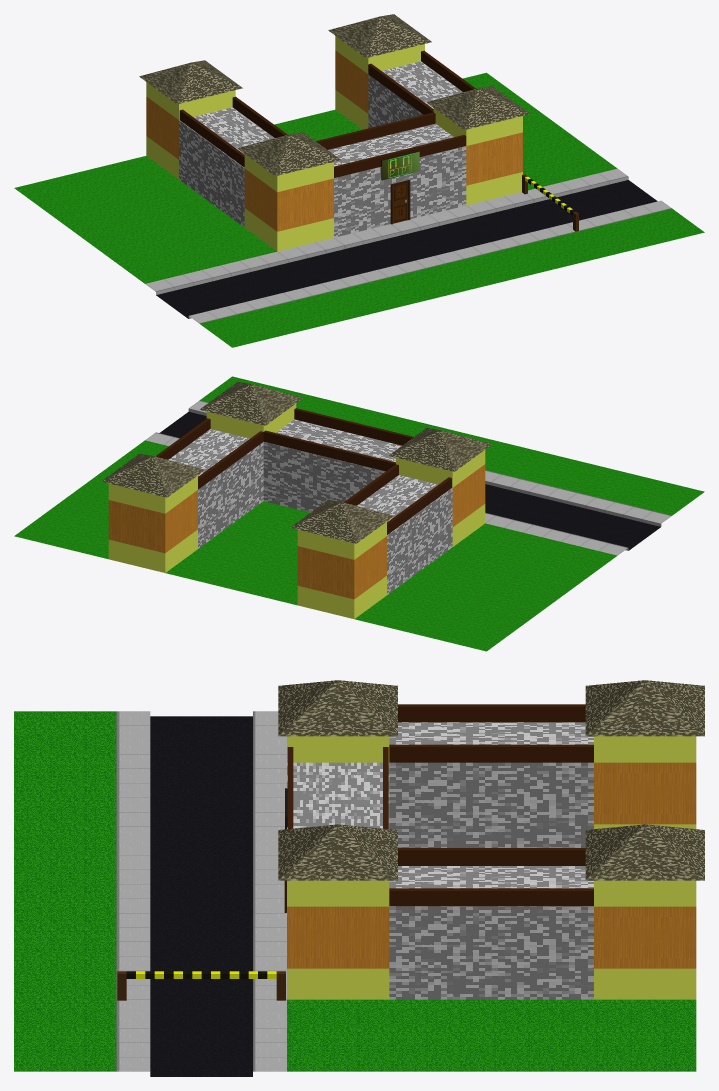
File: PiPiOutside.fbx
The picture shows the model from 3 angles, top to bottom: view 1: azimuth 30°, elevation 25°; view 2: azimuth 150°, elevation 25°; view 3: azimuth 270°, elevation 25°; orthographic projection. The views are drawn at different scales.
Parts seen in each view (by area): view 1: Floor, Cube_2_4, Cube_2_3, Cube_3_2, Cube_1_3, Cube_8_2, Cube_7_2, Cube_4_2, Cube_1, Cube_2, Cube_3, Cube (+9 smaller); view 2: Floor, Cube_2_4, Cube_7_2, Cube_8_2, Cube_3_2, Cube_4_2, Cube_2_3, Cube_1, Cube_2, Cube_3, Cube, Cube_5 (+6 smaller); view 3: Floor, Cube_4_2, Cube_3_2, Cube_8_2, Cube_1_3, Cube_7_2, Cube, Cube_3, Cube_2, Cube_1, Cube_2_4, Cube_8 (+5 smaller).
Boxes of the visible parts, left/top/right/bottom form: Floor: left=14, top=72, right=704, bottom=347; Cube_2_4: left=328, top=123, right=466, bottom=237; Cube_2_3: left=244, top=154, right=333, bottom=251; Cube_3_2: left=179, top=107, right=274, bottom=227; Cube_1_3: left=433, top=108, right=522, bottom=205; Cube_8_2: left=335, top=36, right=424, bottom=129; Cube_7_2: left=146, top=82, right=235, bottom=179; Cube_4_2: left=368, top=61, right=462, bottom=128; Cube_1: left=426, top=86, right=529, bottom=129; Cube_2: left=328, top=14, right=431, bottom=58; Cube_3: left=139, top=60, right=242, bottom=104; Cube: left=237, top=132, right=340, bottom=176; Floor: left=14, top=376, right=704, bottom=651; Cube_2_4: left=263, top=419, right=401, bottom=512; Cube_7_2: left=297, top=522, right=386, bottom=618; Cube_8_2: left=108, top=475, right=197, bottom=572; Cube_3_2: left=357, top=475, right=452, bottom=594; Cube_4_2: left=168, top=429, right=263, bottom=548; Cube_2_3: left=396, top=450, right=485, bottom=546; Cube_1: left=199, top=381, right=302, bottom=425; Cube_2: left=101, top=453, right=204, bottom=497; Cube_3: left=290, top=500, right=393, bottom=543; Cube: left=388, top=428, right=492, bottom=471; Cube_5: left=263, top=430, right=395, bottom=471; Floor: left=14, top=711, right=696, bottom=1076; Cube_4_2: left=389, top=866, right=593, bottom=999; Cube_3_2: left=389, top=722, right=593, bottom=847; Cube_8_2: left=594, top=880, right=696, bottom=999; Cube_1_3: left=287, top=880, right=389, bottom=999; Cube_7_2: left=594, top=736, right=696, bottom=829; Cube: left=278, top=680, right=397, bottom=736; Cube_3: left=585, top=680, right=704, bottom=736; Cube_2: left=585, top=824, right=704, bottom=880; Cube_1: left=278, top=824, right=397, bottom=880; Cube_2_4: left=287, top=762, right=389, bottom=829; Cube_8: left=389, top=888, right=593, bottom=906.
Size of the model in its own units: 7500 by 1649 by 6075.
Materials: 21 (15 with a texture image).
